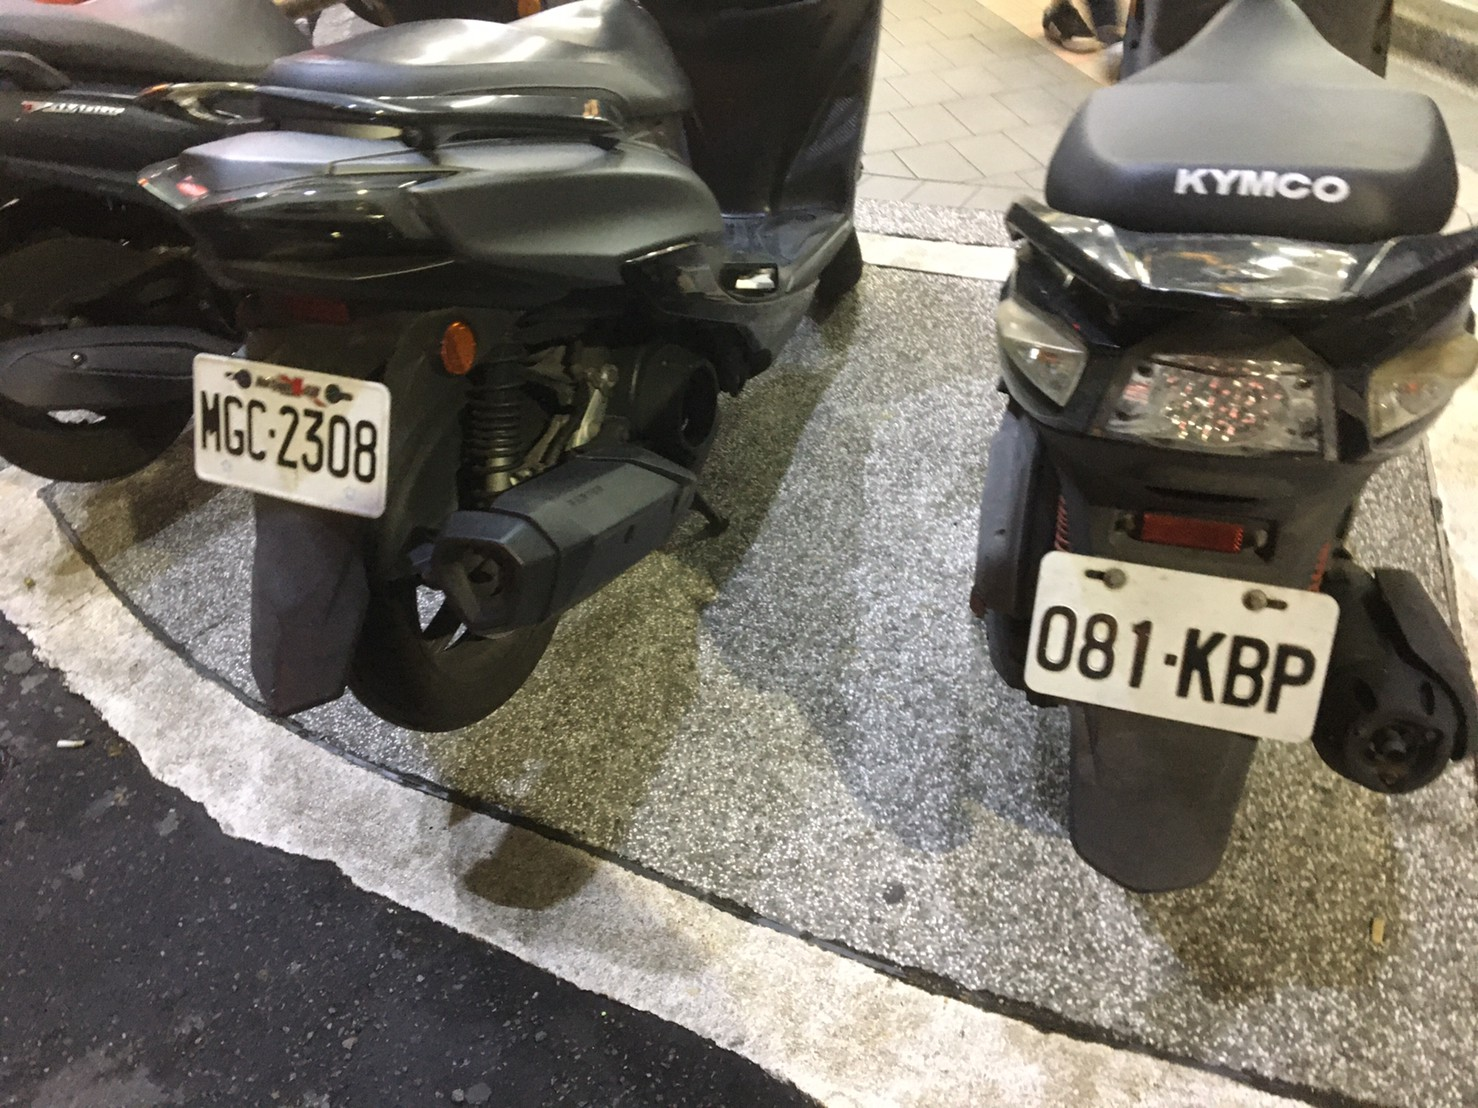LP: (1022, 556, 1346, 733), (187, 351, 384, 518)
